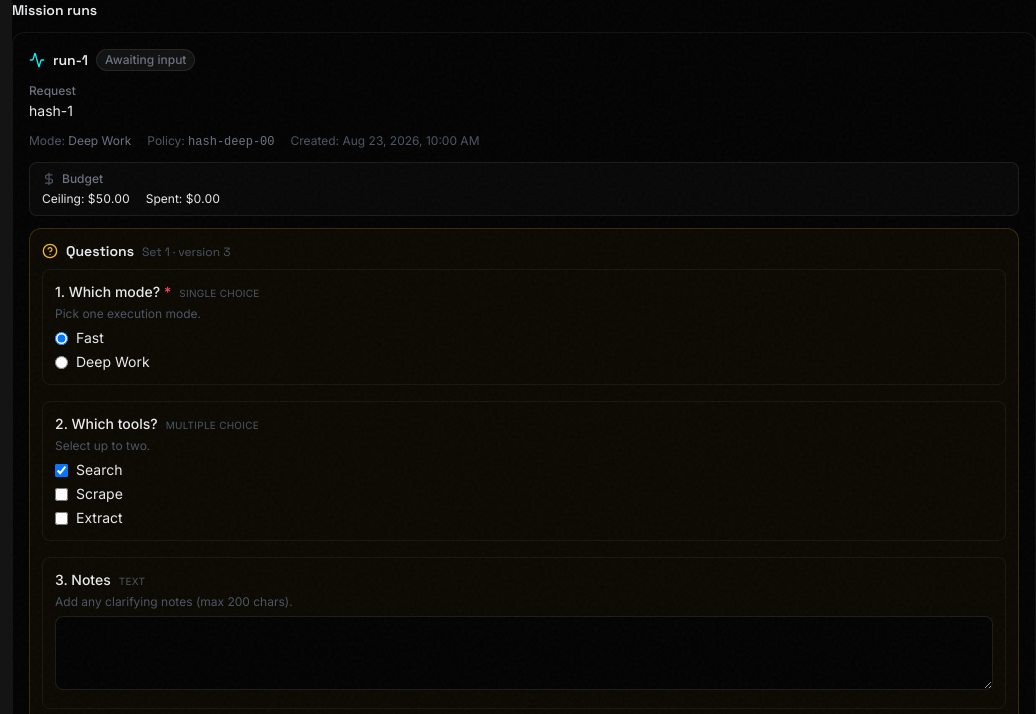
Test: VAL-CROSS-011: question validation is atomic › rejects an invalid required answer client-side with field-level errors and focus
The image size is (1036, 714).
// Fill all required questions EXCEPT boolean (leave it unselected).
Click the radio button labelled "Deep Work".
click(62, 362)  # box [55,356,68,368]
(page scrolled)
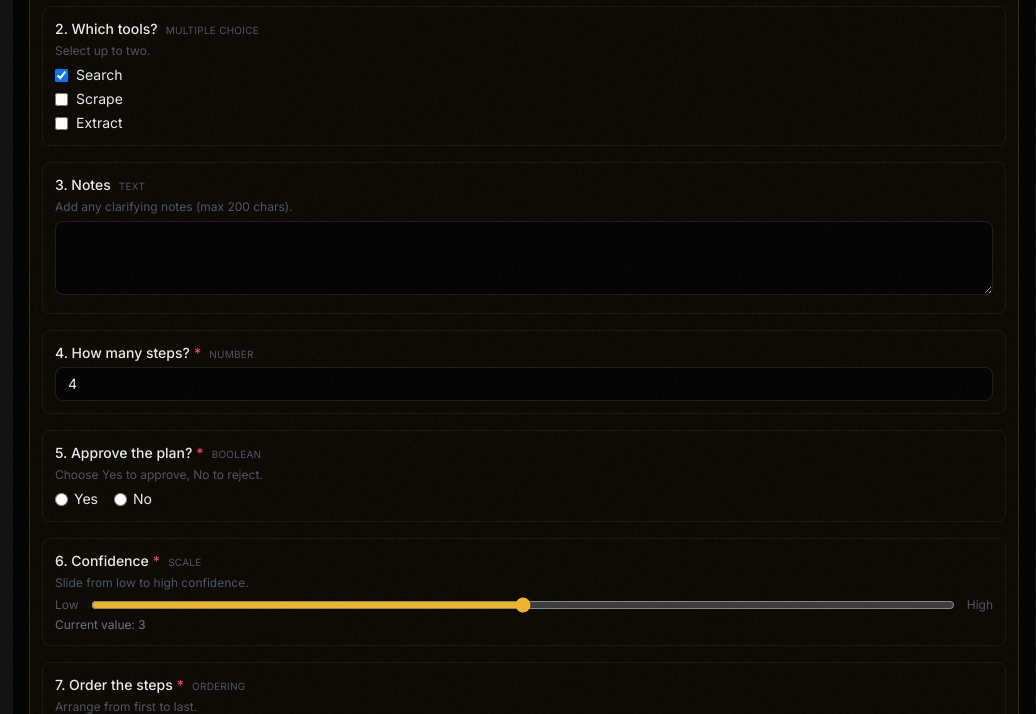
Replace the text in the number field named "How many steps?" with "6" at {"x": 524, "y": 384}, box [55,367,993,401]
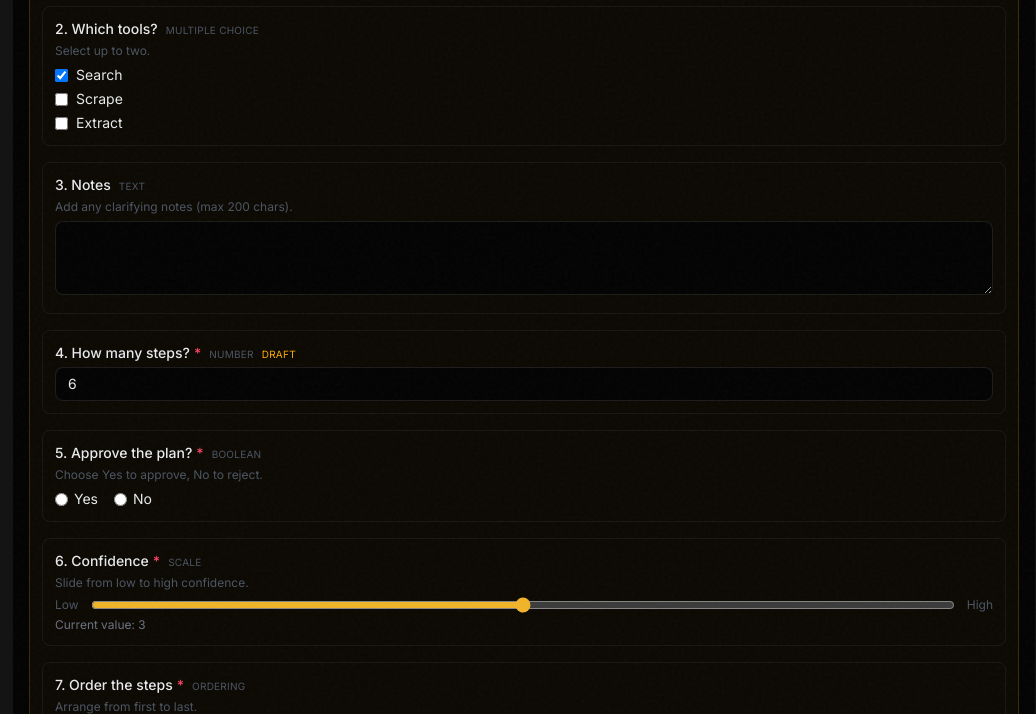
Set the slider named "Confidence" to "5" at {"x": 947, "y": 605}, box [91,597,955,613]
(page scrolled)
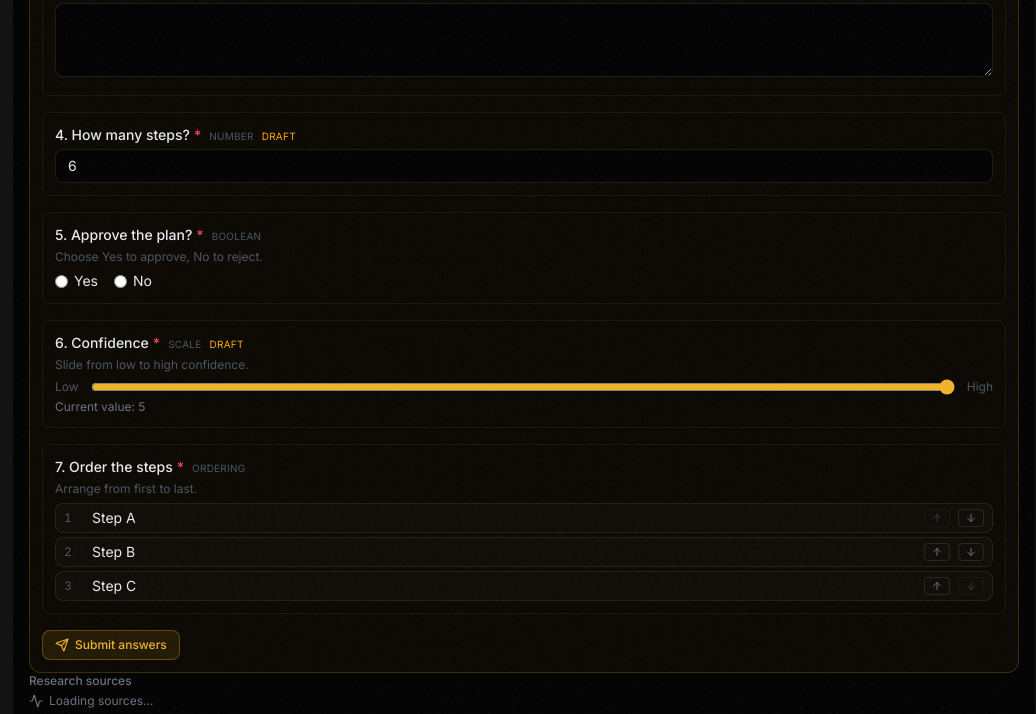
Click the button "Submit answers".
click(111, 645)  # box [42,630,180,660]
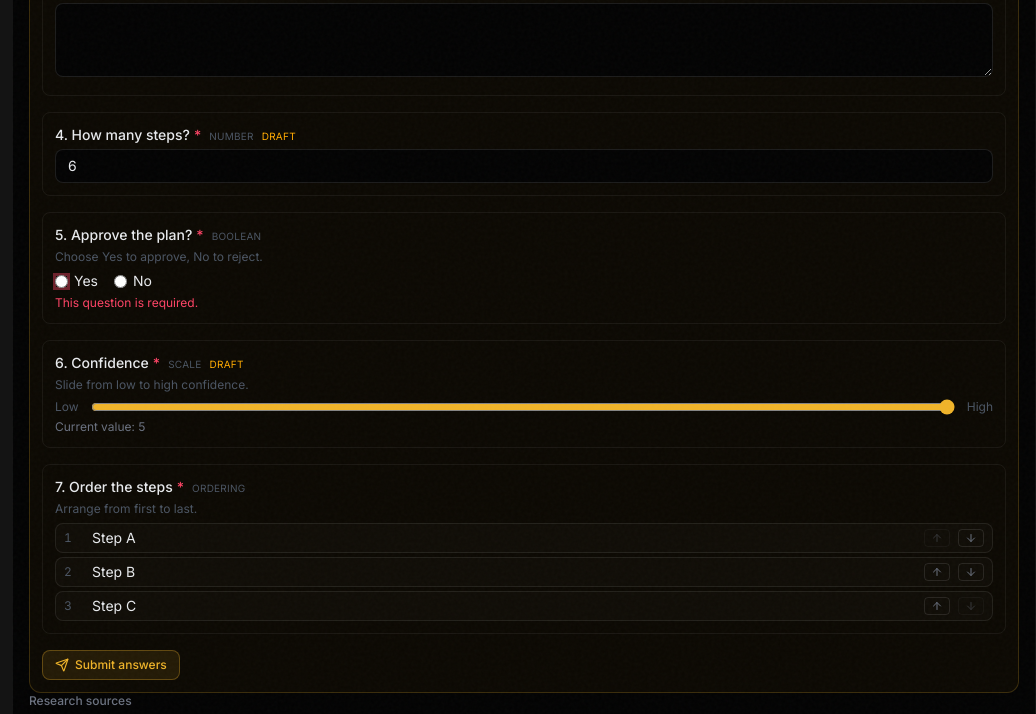
Check: the button "Submit answers" is shown, box [42,650,180,680]
Check: the text "This question is required." is shown, box [55,295,198,310]
